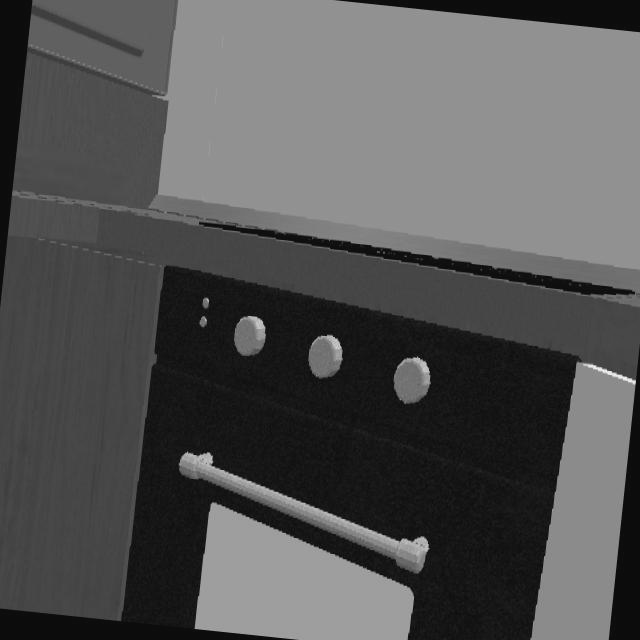oven: (117, 266, 578, 640)
